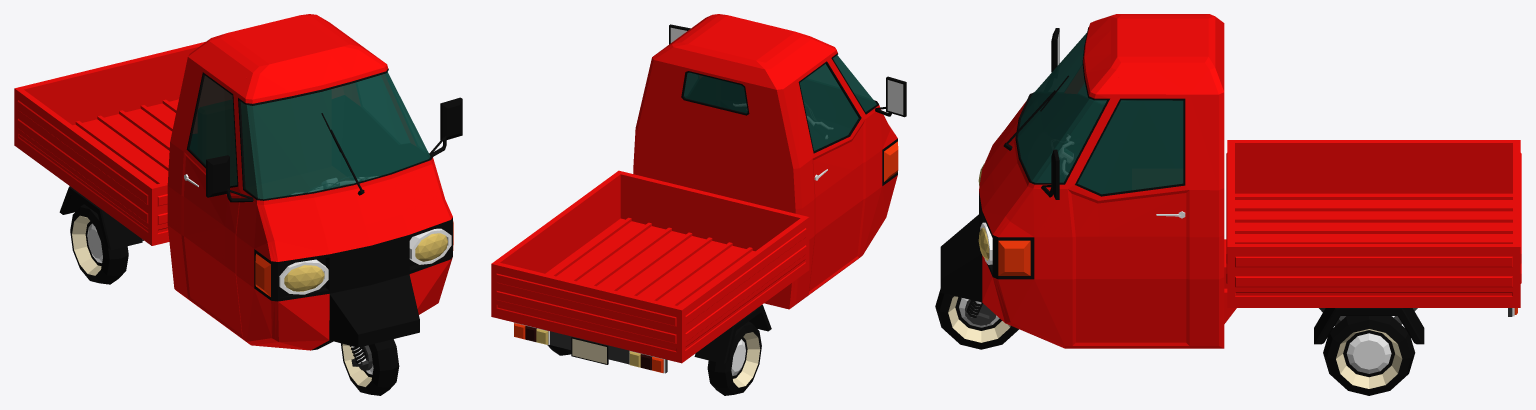
File: 3Wheeler_07.FBX
The picture shows the model from 3 angles, left to right: view 1: azimuth 30°, elevation 25°; view 2: azimuth 150°, elevation 25°; view 3: azimuth 270°, elevation 25°; orthographic projection. The views are drawn at different scales.
Visible parts, largest first — view 1: 3Wheeler_07, interior, wheel_b-r, wheel_f, headLights, lights, mirror_r, mirror_l, indicatorLights_r; view 2: 3Wheeler_07, interior, wheel_b-r, mirror_r, licensePlate_b, indicatorLights_r; view 3: 3Wheeler_07, interior, wheel_b-l, wheel_f, indicatorLights_l.
Boxes of the visible parts, left/top/right/bottom form: 3Wheeler_07: left=14, top=14, right=452, bottom=350; interior: left=189, top=72, right=429, bottom=199; wheel_b-r: left=70, top=204, right=128, bottom=284; wheel_f: left=341, top=339, right=399, bottom=395; headLights: left=284, top=233, right=447, bottom=291; lights: left=279, top=228, right=451, bottom=294; mirror_r: left=206, top=155, right=253, bottom=202; mirror_l: left=429, top=97, right=462, bottom=156; indicatorLights_r: left=255, top=253, right=270, bottom=296; 3Wheeler_07: left=491, top=14, right=897, bottom=373; interior: left=684, top=55, right=876, bottom=150; wheel_b-r: left=707, top=321, right=761, bottom=395; mirror_r: left=875, top=76, right=906, bottom=117; licensePlate_b: left=571, top=337, right=608, bottom=364; indicatorLights_r: left=652, top=141, right=898, bottom=372; 3Wheeler_07: left=940, top=14, right=1521, bottom=348; interior: left=1018, top=33, right=1183, bottom=194; wheel_b-l: left=1323, top=316, right=1415, bottom=395; wheel_f: left=935, top=289, right=1018, bottom=349; indicatorLights_l: left=998, top=240, right=1517, bottom=314.
Size of the model in its own units: 14.34 by 15.66 by 26.78.
